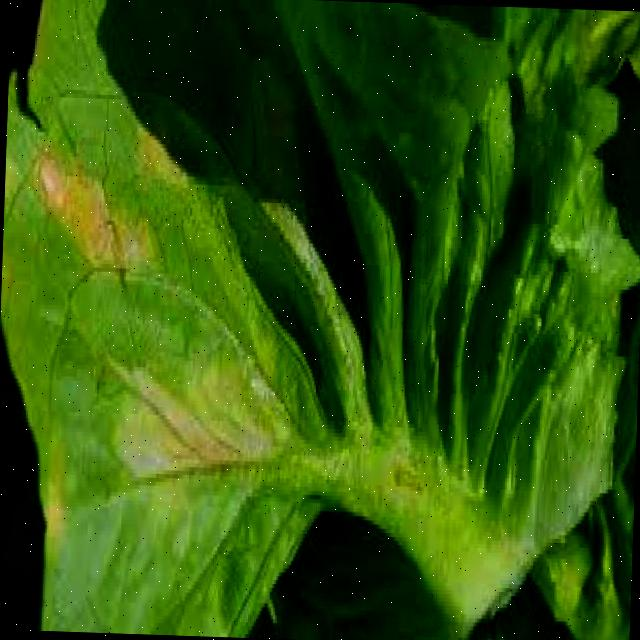Downy_mildew_on_lettuce: (33, 138, 309, 496)
